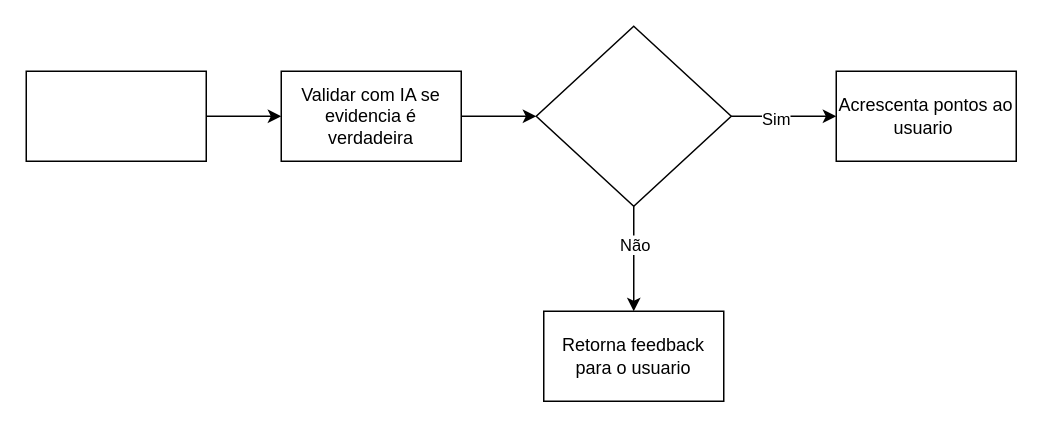
Image size: 1043x428. Some labels were removed from this diagram. The centre of each missing label's shape, as x and y in pixels:
"Enviar Evidencia Foto" belongs at (115,115).
"é verdadeira ?" belongs at (633,115).
